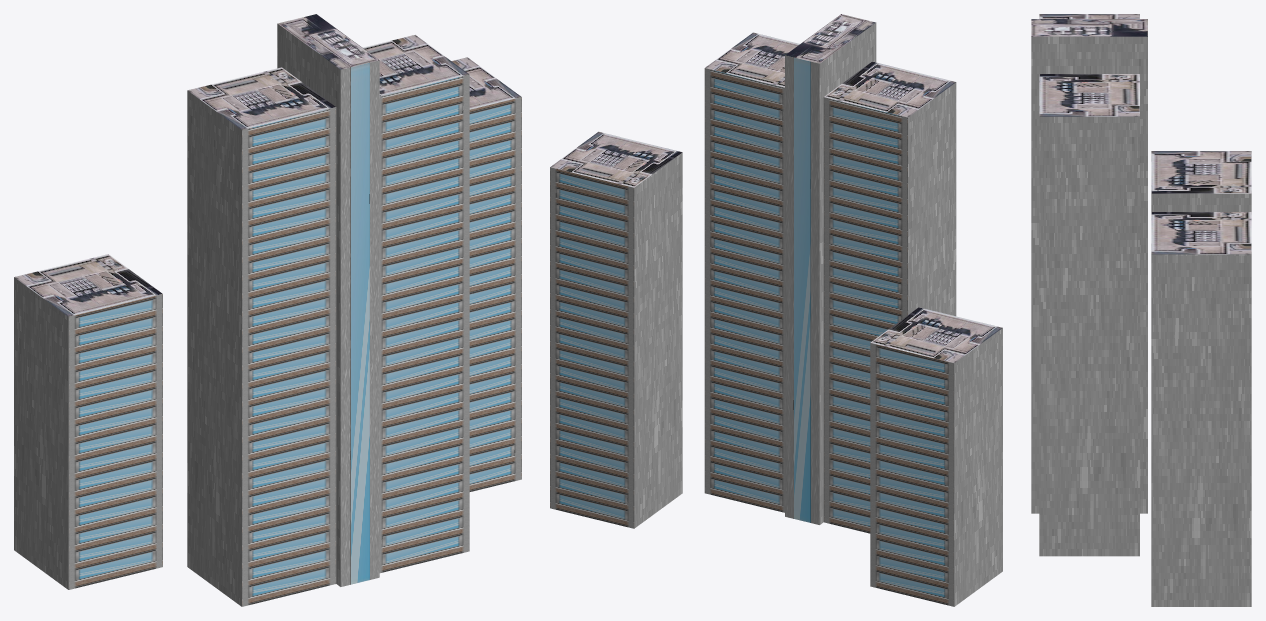
Rendered from tomoehome_out.fbx.
The picture shows the model from 3 angles, left to right: view 1: azimuth 30°, elevation 25°; view 2: azimuth 150°, elevation 25°; view 3: azimuth 270°, elevation 25°; orthographic projection. The views are drawn at different scales.
Visible parts, largest first — view 1: tomoehome_out; view 2: tomoehome_out; view 3: tomoehome_out.
Boxes of the visible parts, left/top/right/bottom form: tomoehome_out: left=14, top=14, right=521, bottom=606; tomoehome_out: left=550, top=14, right=1002, bottom=606; tomoehome_out: left=1031, top=14, right=1251, bottom=606.
Bounding box in the file's own units: 91.72 × 100 × 41.87.
